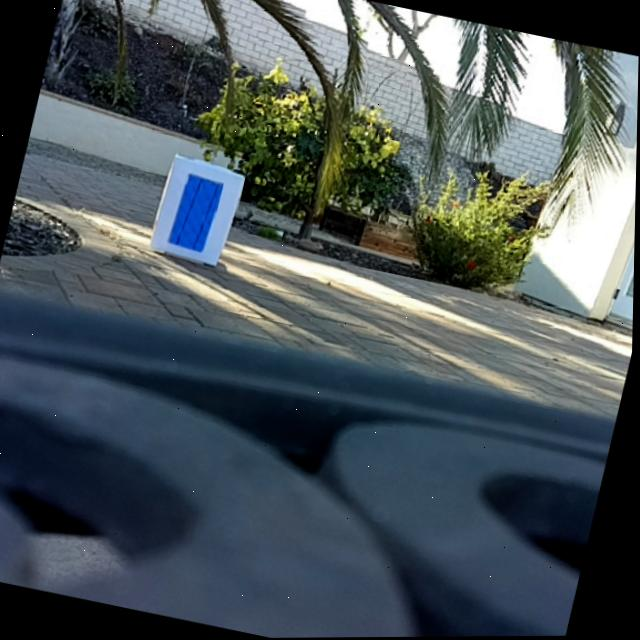led: (169, 173, 223, 252)
